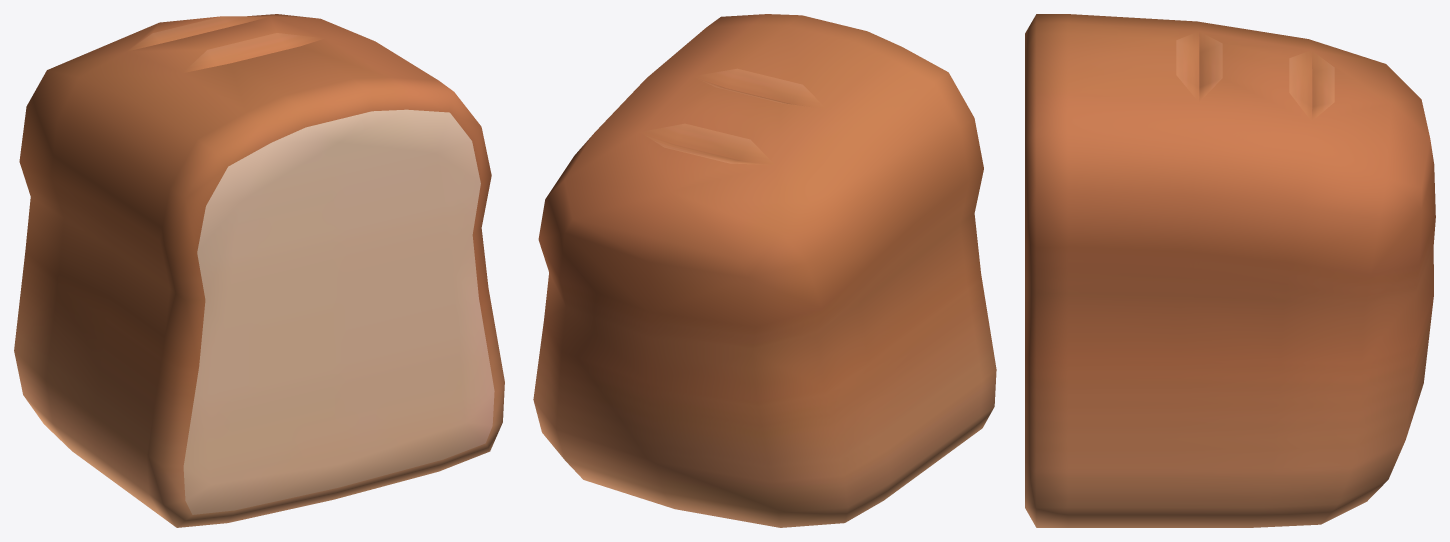
Rendered from bread_half.glb.
3 views of the same model, side by side, from view 1: azimuth 30°, elevation 25°; view 2: azimuth 150°, elevation 25°; view 3: azimuth 270°, elevation 25° (orthographic). The views are drawn at different scales.
Parts seen in each view (by area): view 1: bread_half; view 2: bread_half; view 3: bread_half.
Part boxes in pixels (<box>): bread_half: <box>14,14,504,527</box>; bread_half: <box>533,14,996,527</box>; bread_half: <box>1025,14,1435,527</box>.
Size of the model in its own units: 0.0984 by 0.11 by 0.1001.
Materials: 1 (1 with a texture image).
